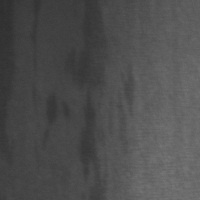inclusion: (73, 1, 111, 192), (1, 4, 18, 156), (38, 85, 70, 160), (117, 57, 144, 124), (25, 1, 44, 80)
